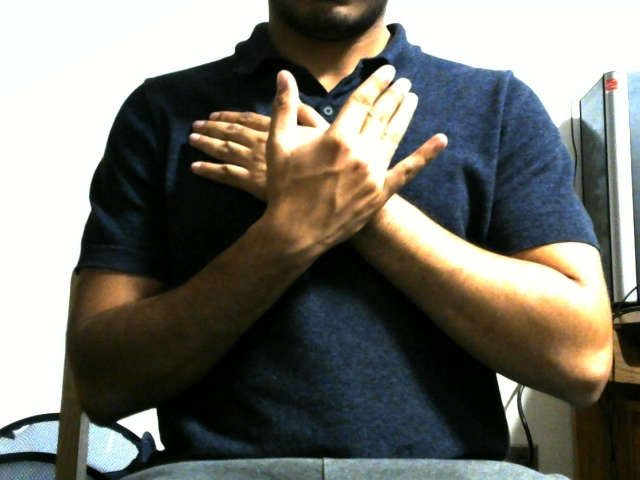blood: (159, 55, 493, 275)
